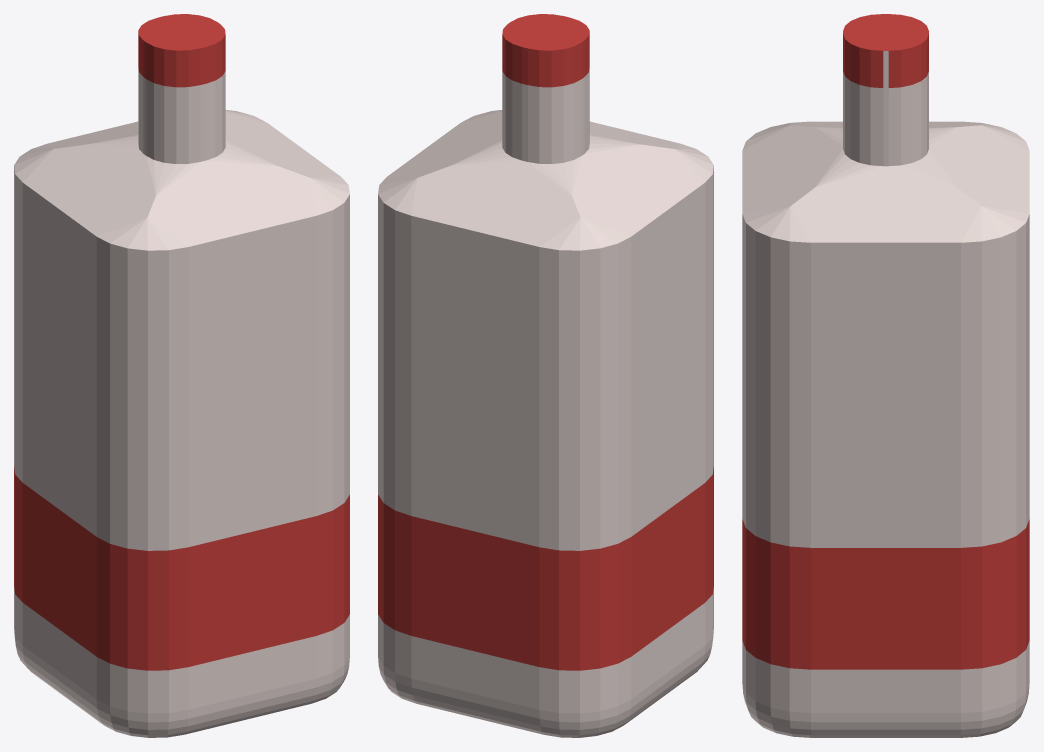
The model's file is skimmed_2pt.glb.
3 views of the same model, side by side, from view 1: azimuth 30°, elevation 25°; view 2: azimuth 150°, elevation 25°; view 3: azimuth 270°, elevation 25° (orthographic).
Parts seen in each view (by area): view 1: Cube, Cube.001, Cube.002; view 2: Cube, Cube.001, Cube.002; view 3: Cube, Cube.001, Cube.002.
Part boxes in pixels (box(x1,y1,x2,y2)): Cube: box(14, 68, 349, 737); Cube.001: box(14, 466, 349, 670); Cube.002: box(138, 14, 225, 87); Cube: box(378, 68, 713, 737); Cube.001: box(378, 466, 713, 670); Cube.002: box(502, 14, 589, 87); Cube: box(742, 51, 1029, 737); Cube.001: box(742, 519, 1029, 669); Cube.002: box(843, 14, 928, 87).
Bounding box in the file's own units: 0.2 × 0.5 × 0.2.
